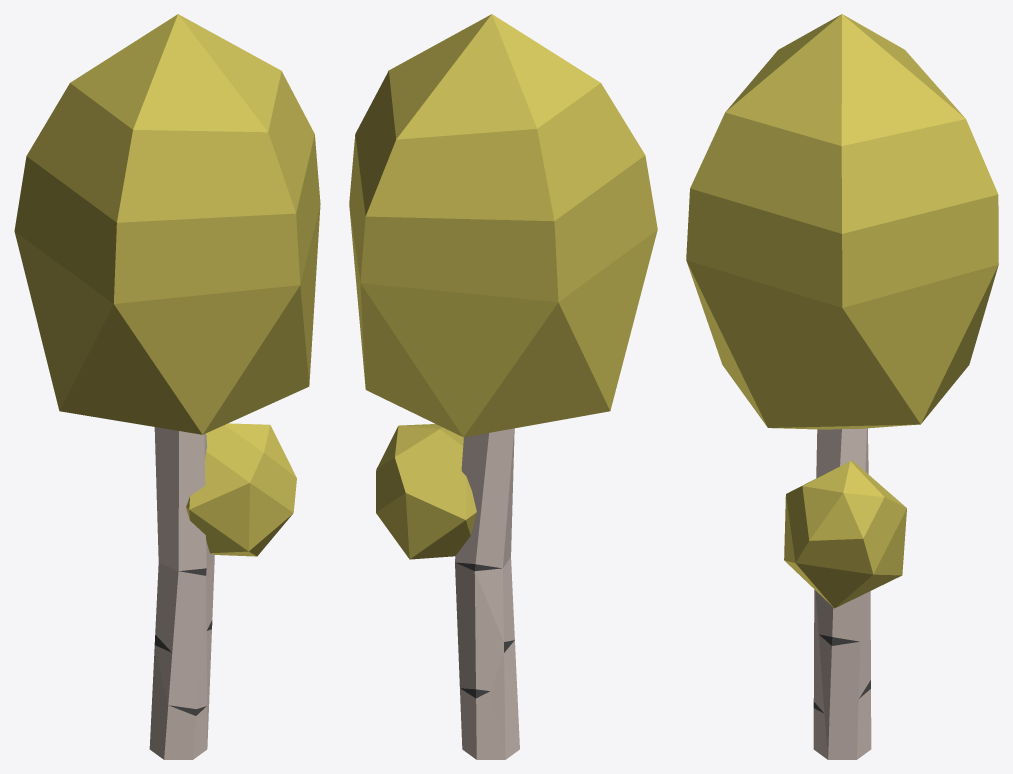
Rendered from T_Aspen3.fbx.
3 renders of one model, left to right at view 1: azimuth 30°, elevation 25°; view 2: azimuth 150°, elevation 25°; view 3: azimuth 270°, elevation 25°, orthographic.
Parts seen in each view (by area): view 1: Cylinder; view 2: Cylinder; view 3: Cylinder.
Boxes of the visible parts, x1,y1,x2,y2 form: Cylinder: (14, 14, 320, 759); Cylinder: (349, 14, 657, 759); Cylinder: (686, 14, 998, 759).
Bounding box in the file's own units: 3.17 × 8.53 × 3.29.
